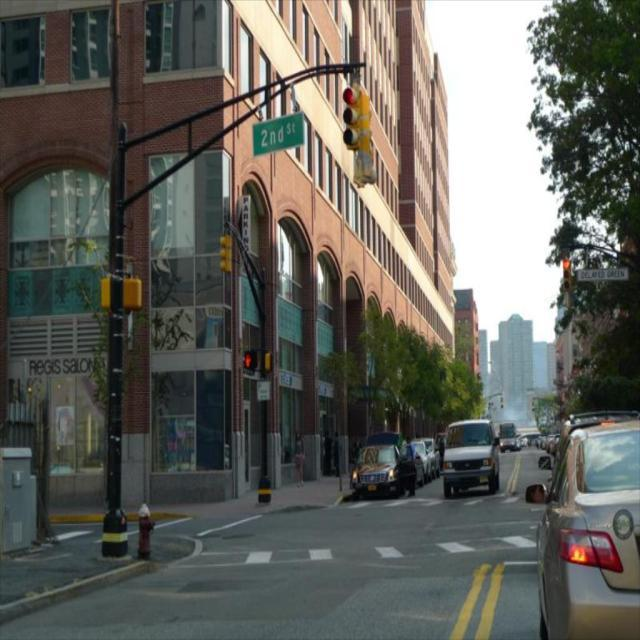off traffic light: (219, 230, 233, 271)
traffic light: (343, 84, 358, 155), (561, 252, 571, 295)
